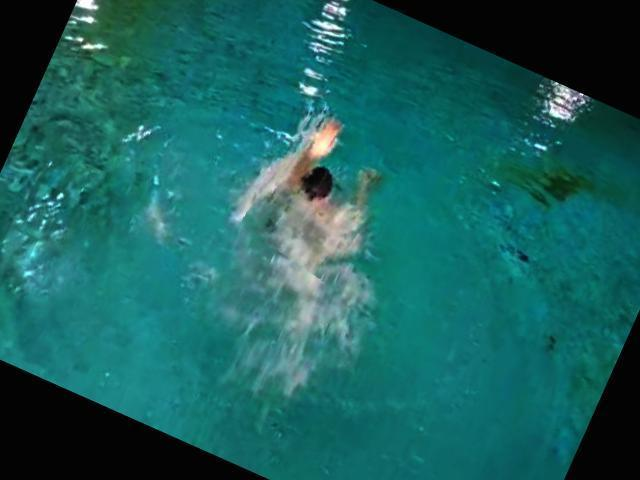drowning: (236, 101, 401, 287)
